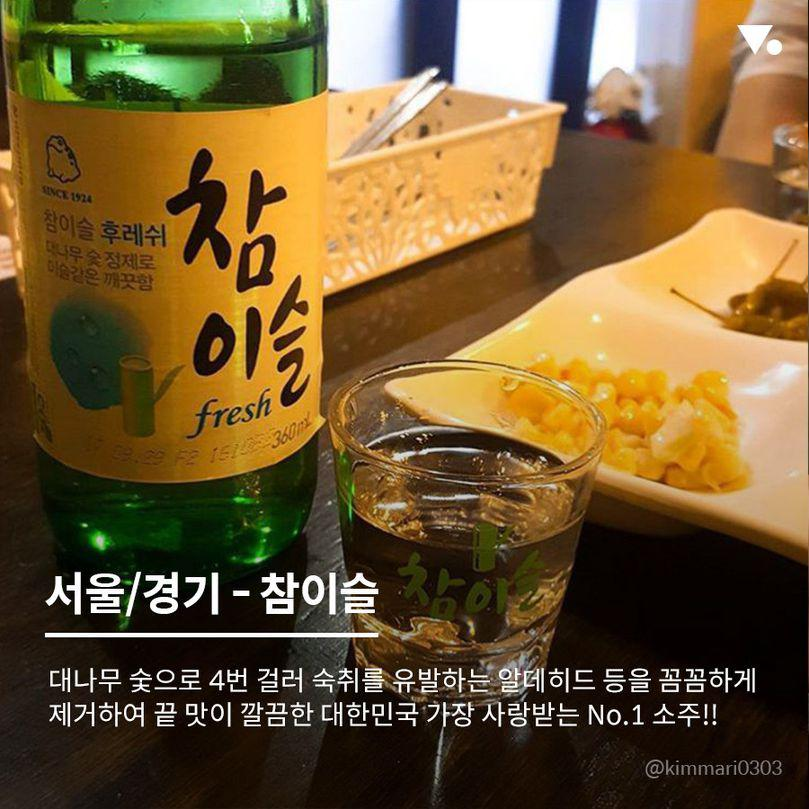soju: (1, 5, 330, 566)
